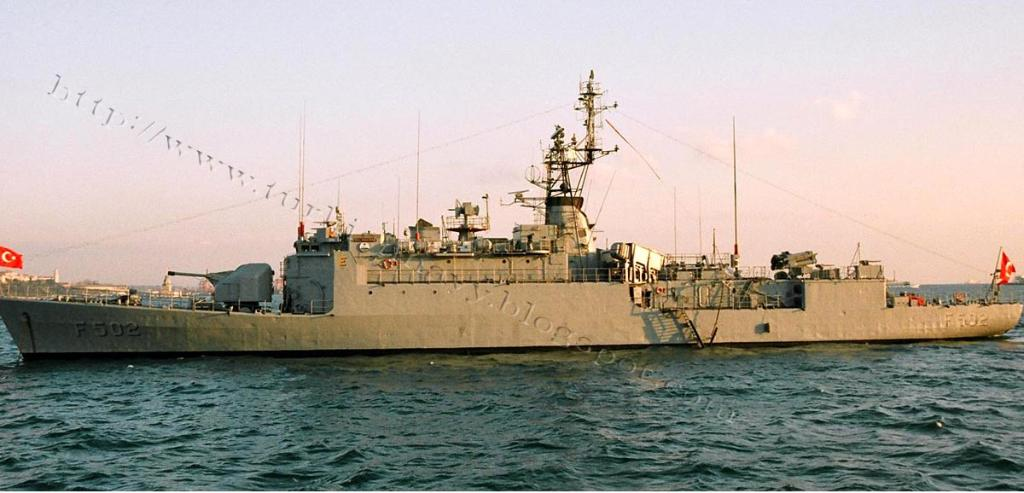Warship: (0, 66, 1024, 358)
